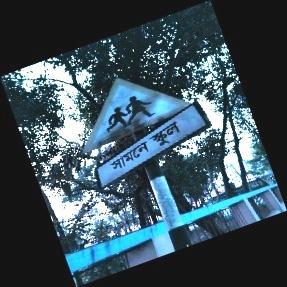School-in-front: (82, 78, 206, 191)
